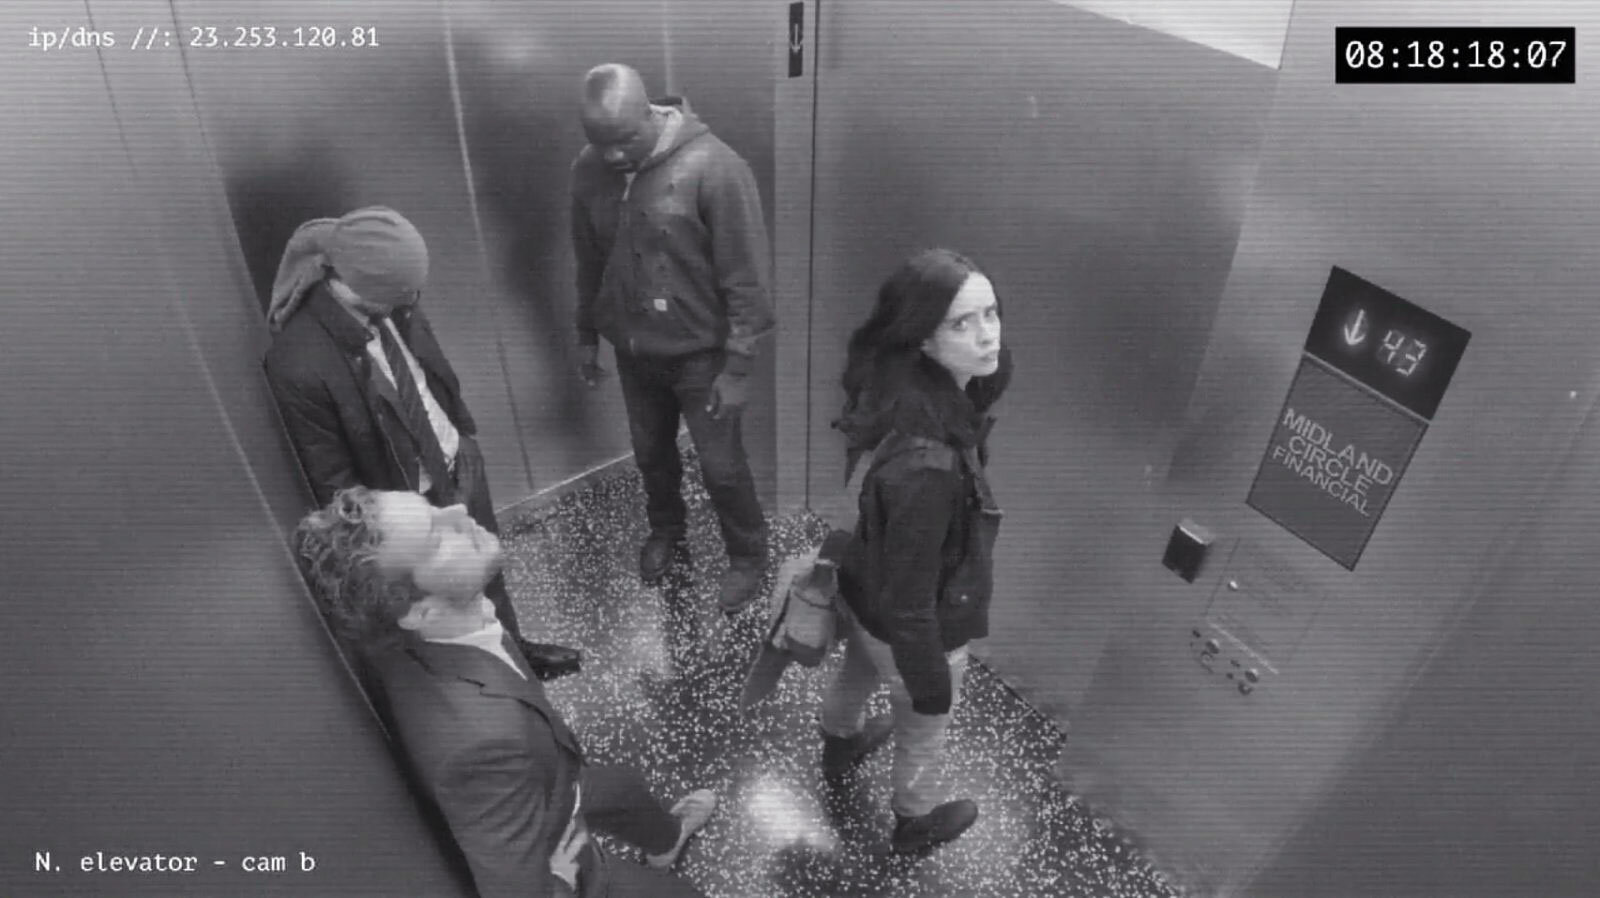Person: (286, 491, 720, 898), (254, 184, 593, 702), (548, 58, 784, 603), (822, 242, 1013, 860)
